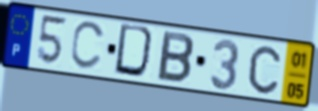3: (208, 37, 241, 92)
5: (35, 12, 70, 69)
B: (155, 29, 196, 86)
C: (68, 20, 108, 72), (247, 44, 283, 97)
D: (112, 21, 159, 82)
